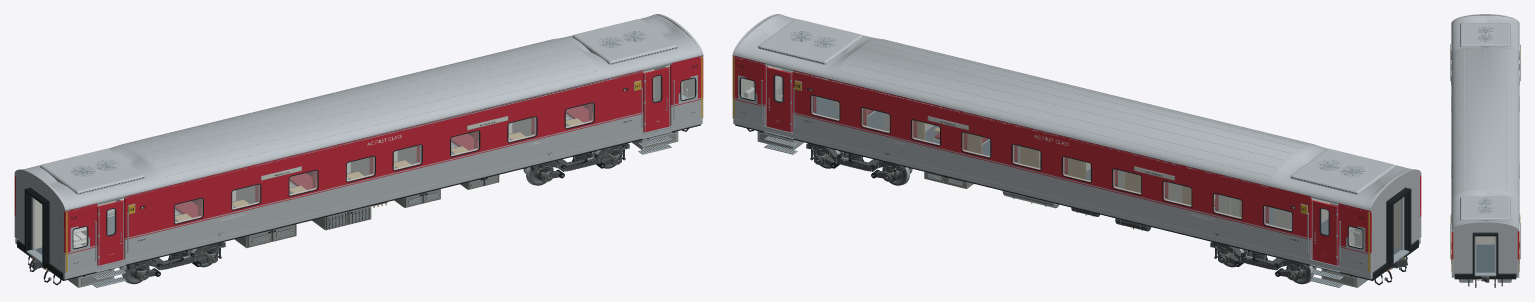
Rendered from LHB_1A.fbx.
3 views of the same model, side by side, from view 1: azimuth 30°, elevation 25°; view 2: azimuth 150°, elevation 25°; view 3: azimuth 270°, elevation 25° (orthographic). The views are drawn at different scales.
Visible parts, largest first — view 1: ROOF_arch, BODYSIDE_sill.001, BODYSIDE_header.001, UNDERFRAME_edge, AC_ROOF_end_package, AC_ROOF_end_package.001, UNDERFRAME_main, BODYSIDE_window_pier.002, BODYSIDE_window_pier.010, ROOF_rain_gutter, END_wall, END_wall.001 (+25 smaller); view 2: ROOF_arch, BODYSIDE_sill.004, BODYSIDE_header.004, UNDERFRAME_edge.001, AC_ROOF_end_package, AC_ROOF_end_package.001, INTERIOR_floor, UNDERFRAME_main, END_wall.001, ROOF_rain_gutter.001, END_wall, BODYSIDE_sill.005 (+24 smaller); view 3: ROOF_arch, AC_ROOF_end_package.001, AC_ROOF_end_package, END_wall.003, END_wall.002, INTERIOR_floor, UNDERFRAME_main, ROOF_rain_gutter, ROOF_rain_gutter.001, CABIN_end_partition, ROOF_longitudinal_seam, ROOF_longitudinal_seam.001 (+9 smaller).
Part boxes in pixels (box(x1,y1,x2,y2)): ROOF_arch: box(14, 14, 703, 212); BODYSIDE_sill.001: box(124, 112, 643, 259); BODYSIDE_header.001: box(124, 70, 643, 214); UNDERFRAME_edge: box(63, 119, 702, 279); AC_ROOF_end_package: box(40, 148, 145, 194); AC_ROOF_end_package.001: box(572, 19, 677, 64); UNDERFRAME_main: box(17, 124, 700, 280); BODYSIDE_window_pier.002: box(124, 203, 171, 238); BODYSIDE_window_pier.010: box(596, 88, 643, 123); ROOF_rain_gutter: box(65, 54, 703, 210); END_wall: box(49, 202, 64, 272); END_wall.001: box(15, 177, 34, 250); ROOF_arch: box(733, 14, 1421, 212); BODYSIDE_sill.004: box(792, 112, 1311, 259); BODYSIDE_header.004: box(792, 70, 1311, 214); UNDERFRAME_edge.001: box(733, 119, 1372, 279); AC_ROOF_end_package: box(1290, 148, 1395, 194); AC_ROOF_end_package.001: box(758, 19, 863, 64); INTERIOR_floor: box(781, 95, 1400, 254); UNDERFRAME_main: box(735, 124, 1418, 280); END_wall.001: box(1371, 201, 1386, 272); ROOF_rain_gutter.001: box(732, 54, 1370, 210); END_wall: box(1401, 177, 1419, 250); BODYSIDE_sill.005: box(732, 97, 765, 126); ROOF_arch: box(1451, 15, 1519, 232); AC_ROOF_end_package.001: box(1460, 196, 1510, 221); AC_ROOF_end_package: box(1460, 23, 1510, 47); END_wall.003: box(1494, 231, 1517, 273); END_wall.002: box(1453, 231, 1476, 273); INTERIOR_floor: box(1455, 244, 1515, 273); UNDERFRAME_main: box(1454, 274, 1516, 279); ROOF_rain_gutter: box(1451, 23, 1451, 230); ROOF_rain_gutter.001: box(1519, 23, 1519, 230); CABIN_end_partition: box(1476, 236, 1494, 244); ROOF_longitudinal_seam: box(1456, 52, 1456, 192); ROOF_longitudinal_seam.001: box(1464, 50, 1464, 190).
Size of the model in its own units: 336 by 2416 by 407.
